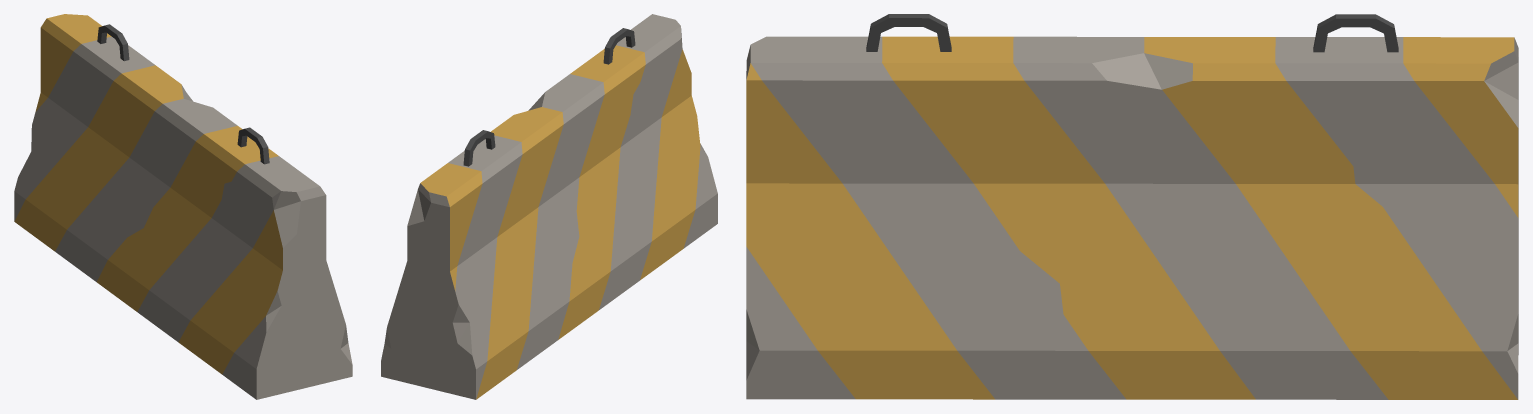
Rendered from Barricade.fbx.
The picture shows the model from 3 angles, left to right: view 1: azimuth 30°, elevation 25°; view 2: azimuth 150°, elevation 25°; view 3: azimuth 270°, elevation 25°; orthographic projection. The views are drawn at different scales.
Parts seen in each view (by area): view 1: SM_Prop_Barricade_01__28_; view 2: SM_Prop_Barricade_01__28_; view 3: SM_Prop_Barricade_01__28_.
Boxes of the visible parts, x1,y1,x2,y2 form: SM_Prop_Barricade_01__28_: [14, 14, 352, 399]; SM_Prop_Barricade_01__28_: [381, 14, 717, 399]; SM_Prop_Barricade_01__28_: [746, 14, 1518, 399].
Bounding box in the file's own units: 42.79 × 92.07 × 186.
